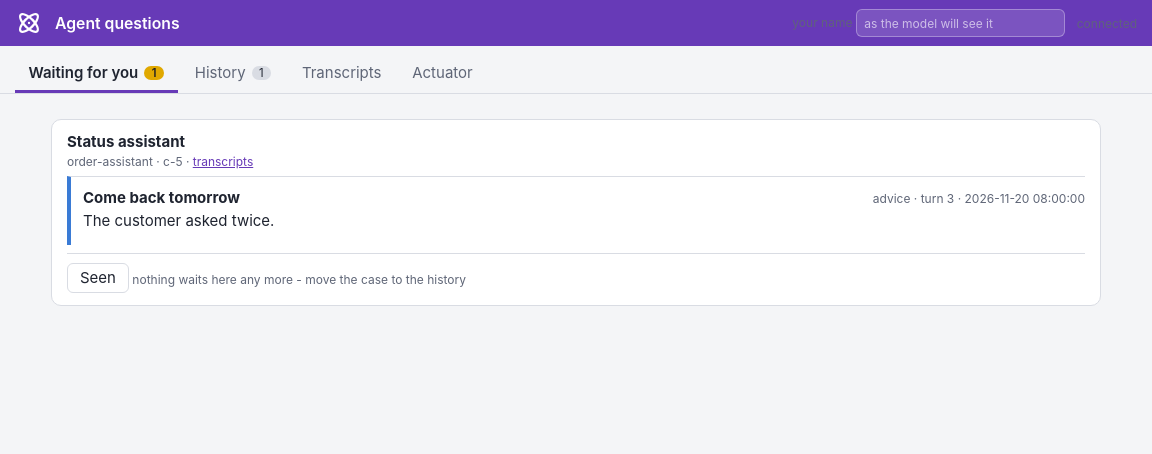
Test: App › keeps a case whose advices are unseen until the person marks it, and never an older page's advice
Later steps or results of the test are not shown.
Expected: the text "Come back tomorrow" is shown, [83,188,240,206]
Expected: the button "Waiting for you 1" is shown, [15,56,178,92]
Step 1. Click the button "History 1" → (233, 74), box [181,56,285,92]
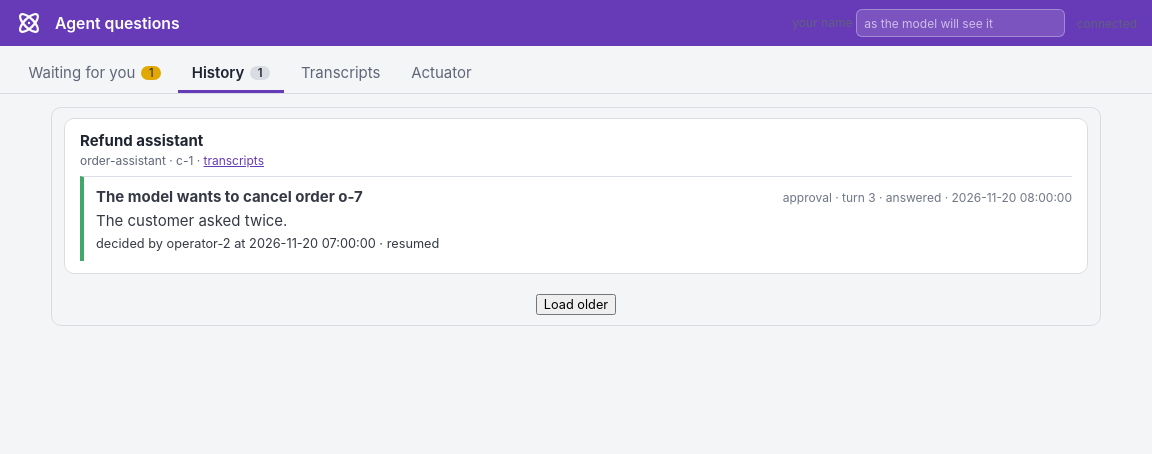
Step 2. Click the button "Load older" → (576, 304), box [536,294,616,314]
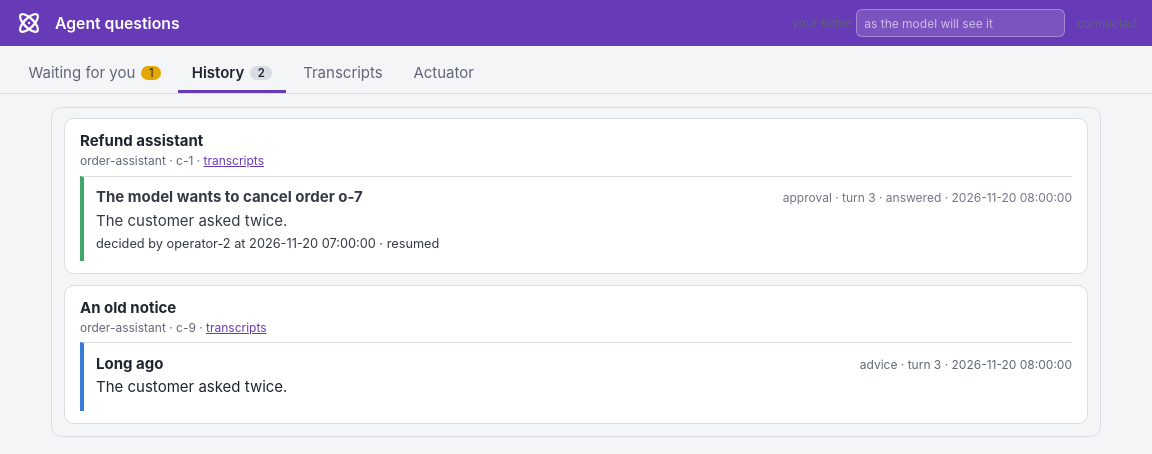
Expected: the text "Long ago" is shown, [96,354,163,372]
Step 3. Click the button "Waiting for you 1" → (95, 74), box [15,56,174,92]
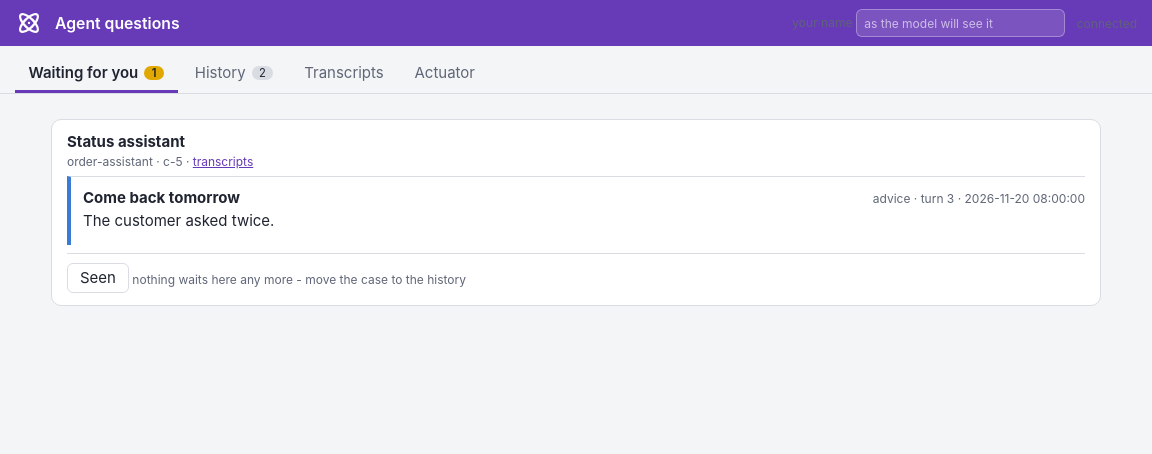
Expected: the text "Long ago" is gone
Step 4. Click the button "Seen" → (98, 278), box [67,262,129,292]
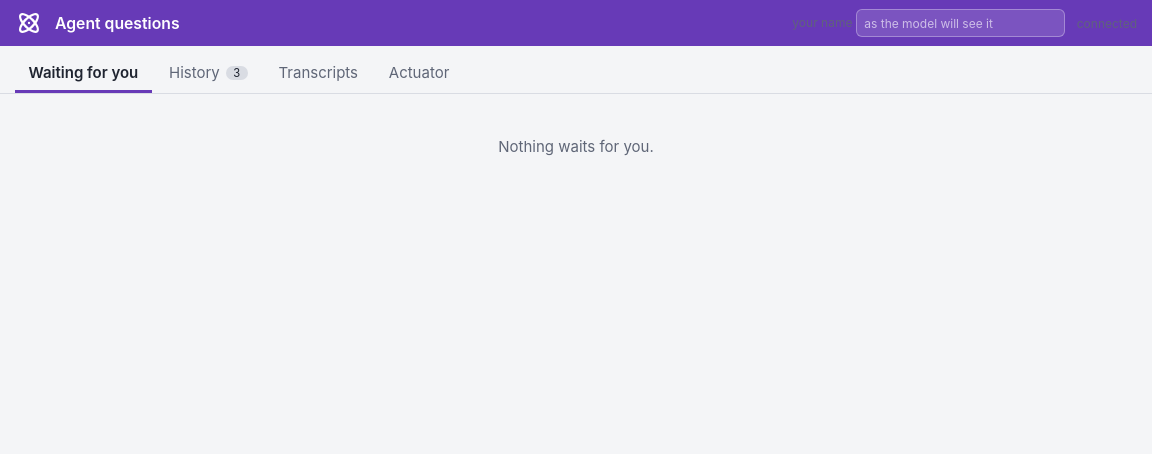
Expected: the heading "Agent questions" is shown, [55,14,180,32]
Expected: the text "Nothing waits for you." is shown, [498,136,654,156]
